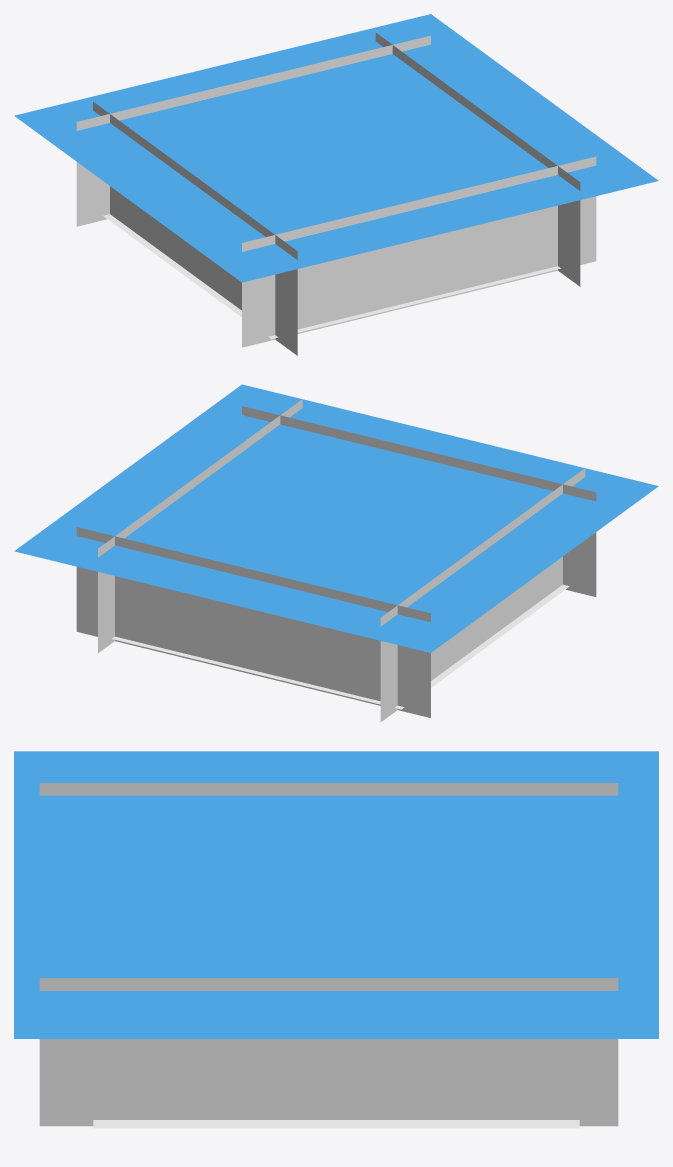
File: game.gltf
3 views of the same model, one above another, from view 1: azimuth 30°, elevation 25°; view 2: azimuth 150°, elevation 25°; view 3: azimuth 270°, elevation 25° (orthographic). The views are drawn at different scales.
Parts seen in each view (by area): view 1: Plane.002, Plane.003, Plane.005, Plane.004, Plane.006, Floor; view 2: Plane.002, Plane.004, Plane.005, Plane.003, Plane.006, Floor; view 3: Plane.002, Plane.006, Plane.005, Floor.
Boxes of the visible parts, x1,y1,x2,y2 form: Plane.002: [14, 14, 658, 282]; Plane.003: [242, 156, 596, 347]; Plane.005: [93, 101, 297, 355]; Plane.004: [76, 35, 430, 226]; Plane.006: [375, 33, 580, 286]; Floor: [103, 214, 560, 339]; Plane.002: [14, 384, 658, 652]; Plane.004: [76, 527, 430, 717]; Plane.005: [380, 468, 585, 721]; Plane.003: [242, 406, 596, 596]; Plane.006: [98, 399, 302, 653]; Floor: [112, 584, 569, 709]; Plane.002: [14, 751, 658, 1038]; Plane.006: [39, 978, 618, 1126]; Plane.005: [39, 783, 618, 795]; Floor: [93, 1120, 579, 1128].
Bounding box in the file's own units: 833 × 200 × 789.
